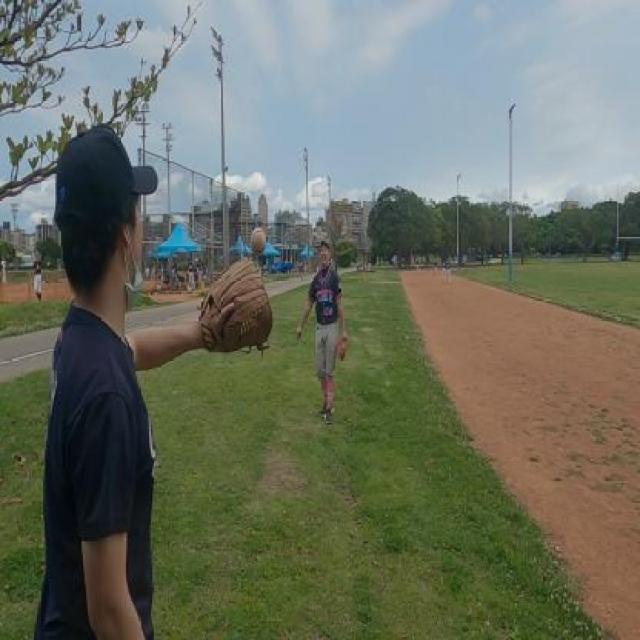baseball: (248, 226, 267, 256)
